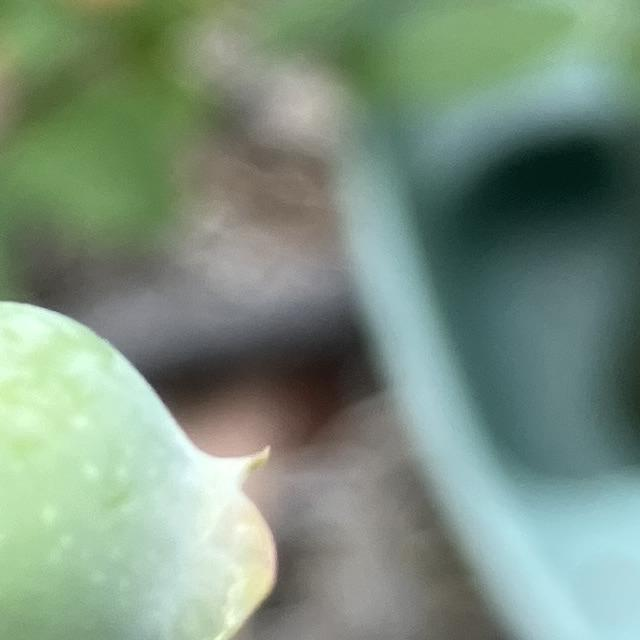Blueberries: (0, 264, 297, 640)
